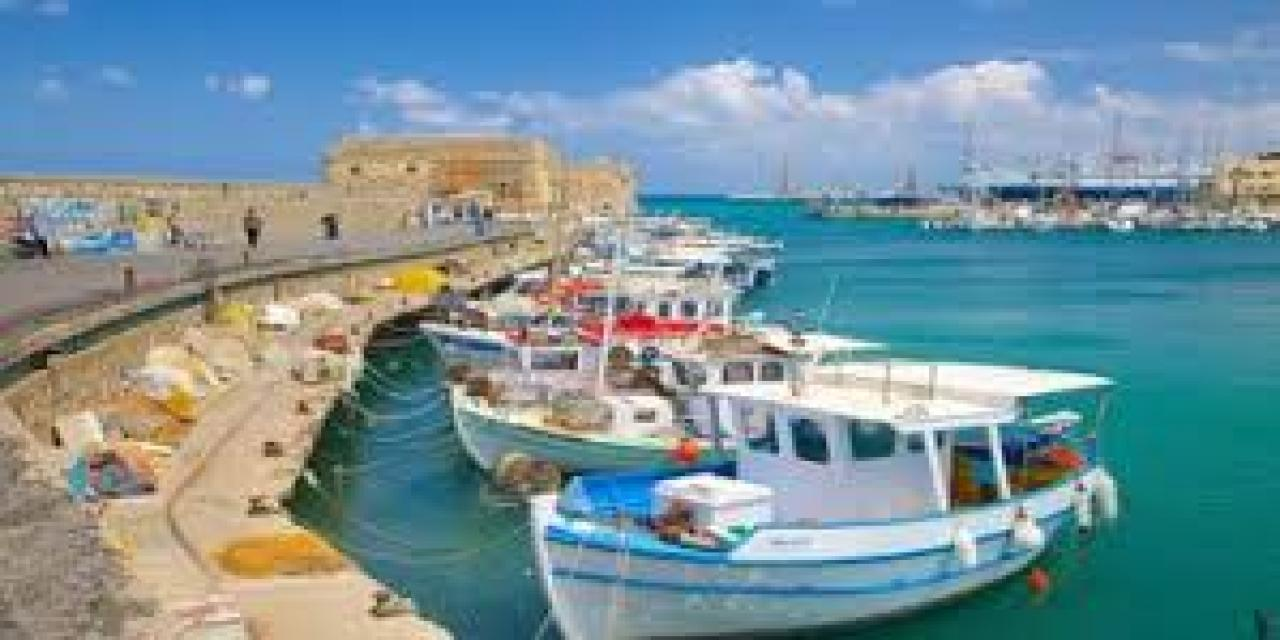Kules: (324, 132, 643, 223)
